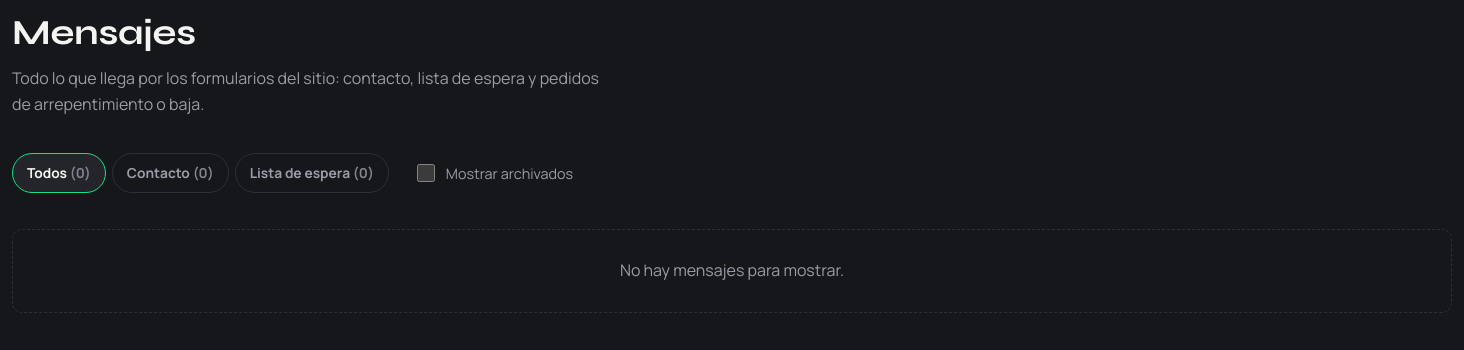
it: MessagesPage › esconde los archivados salvo que se pidan
Check: the text "No hay mensajes para mostrar." is shown, box [12,229,1452,313]
Click the checkbox labelled "Mostrar archivados" at coordinates (426, 173), box [417,164,435,182]
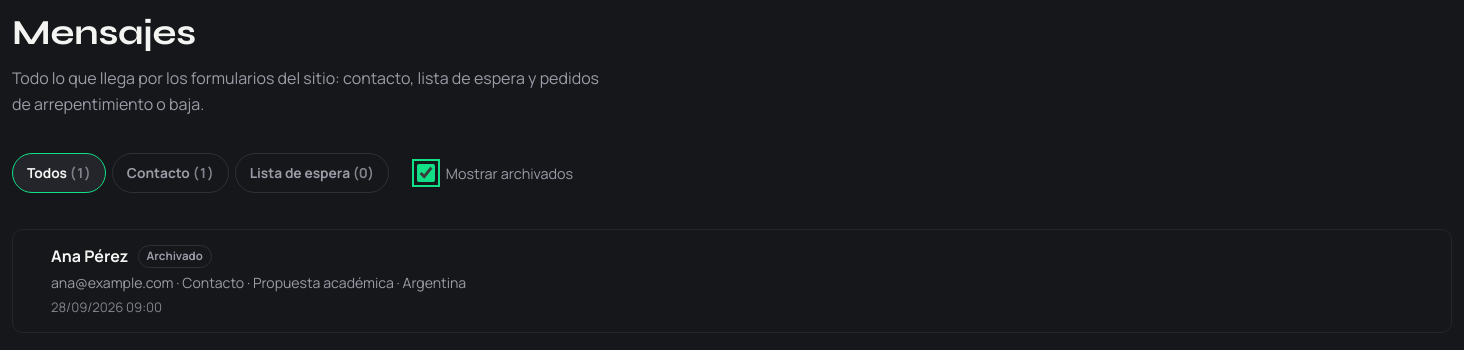
Check: the text "Ana Pérez" is shown, box [51,245,128,267]
